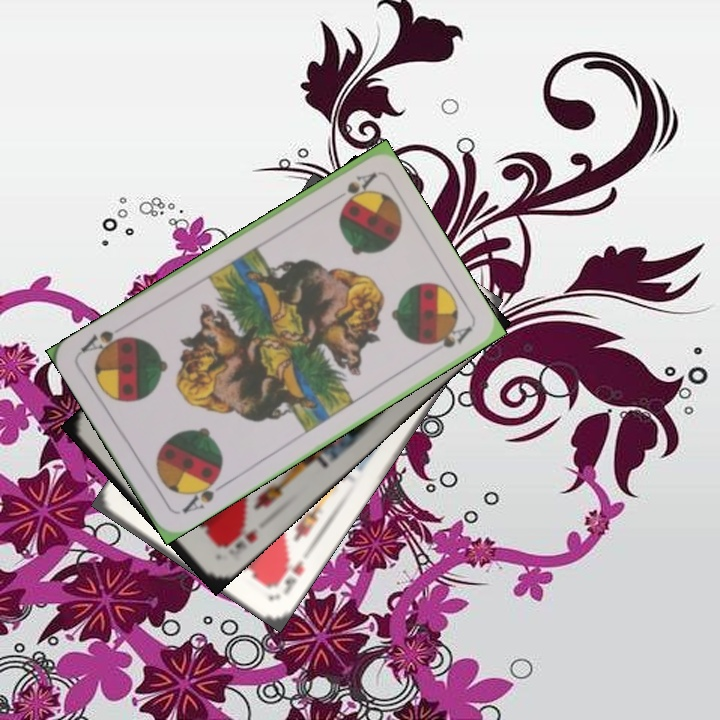HK: (215, 520, 261, 552), (279, 555, 307, 598)
SA: (178, 471, 228, 517), (339, 168, 379, 205)
